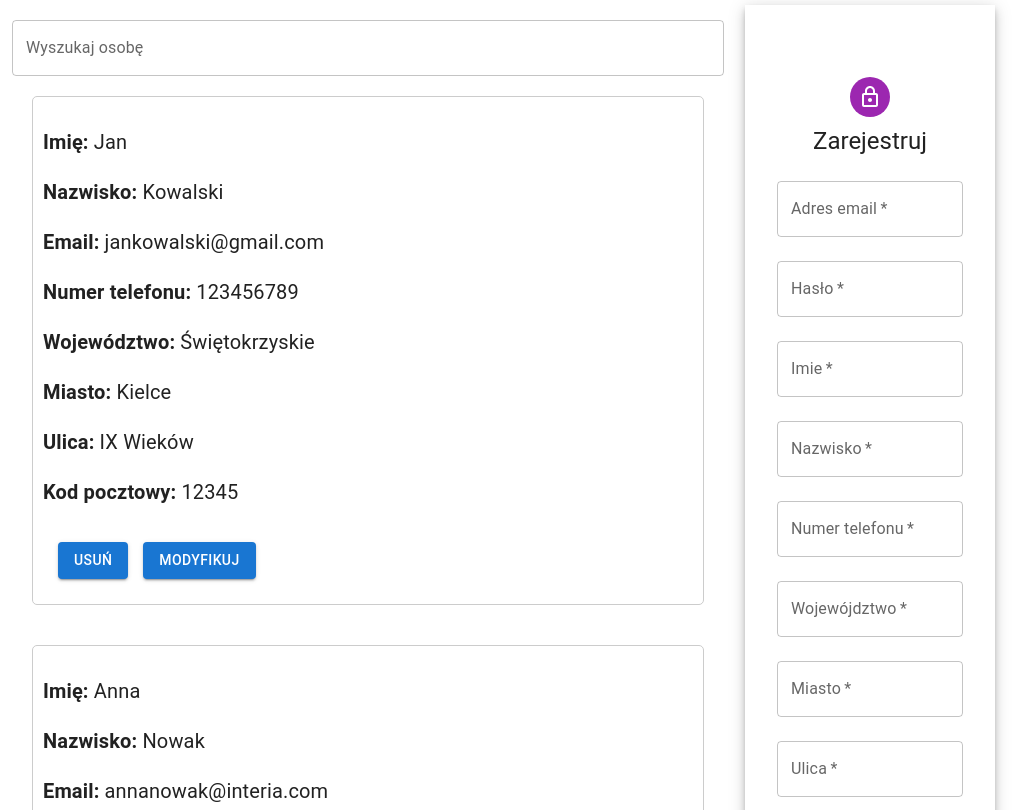
Scenario: ManageUsers › allows searching for a user
Expected: the text "Anna" is shown, [94,678,140,702]
Type "Anna" into the field labelled "Wyszukaj osobę".
click(368, 48); type("Anna")  # box [12,20,724,76]
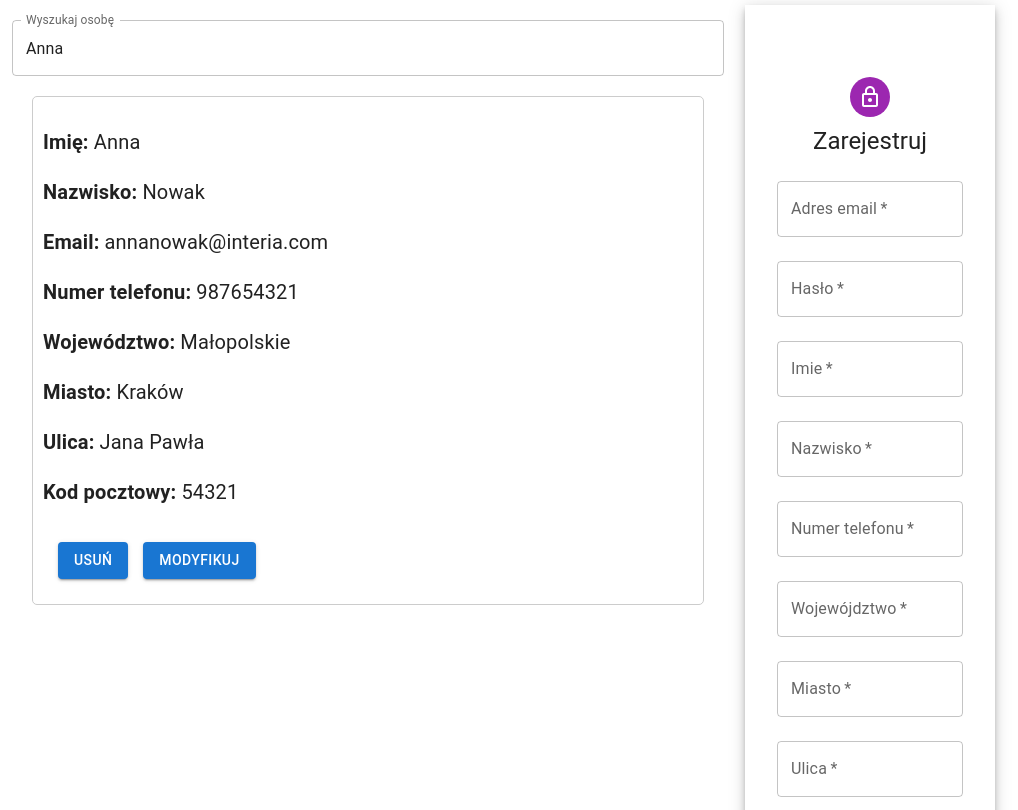
Expected: the text "Anna" is shown, [94,130,140,154]
Expected: the text "Nowak" is shown, [142,180,205,204]
Expected: the text "annanowak@interia.com" is shown, [105,230,328,254]
